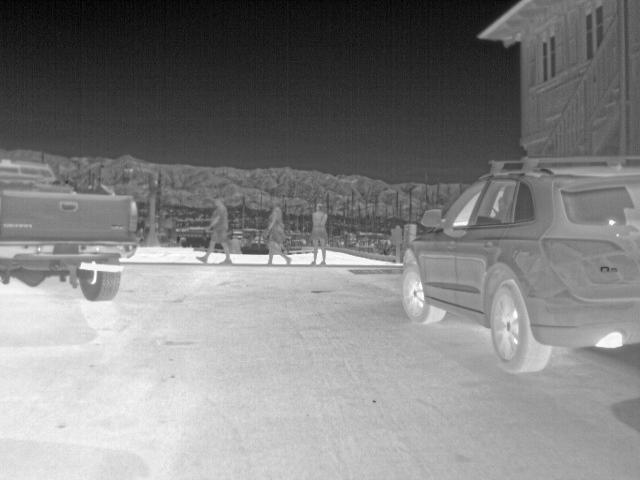car: (398, 150, 638, 375), (1, 156, 137, 302)
person: (194, 195, 233, 266), (261, 204, 296, 266), (307, 204, 331, 264)
